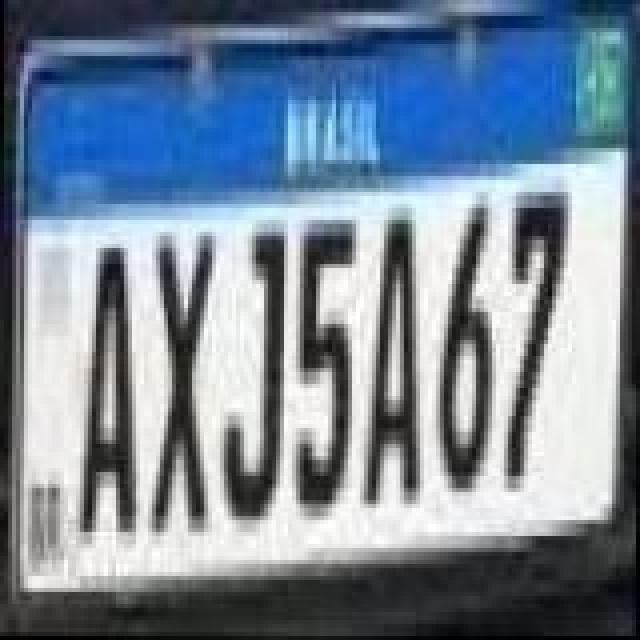5: (294, 206, 362, 518)
6: (432, 196, 496, 508)
7: (502, 180, 570, 492)
A: (76, 232, 144, 544), (358, 212, 426, 508)
J: (220, 220, 288, 532)
X: (148, 216, 216, 544)
